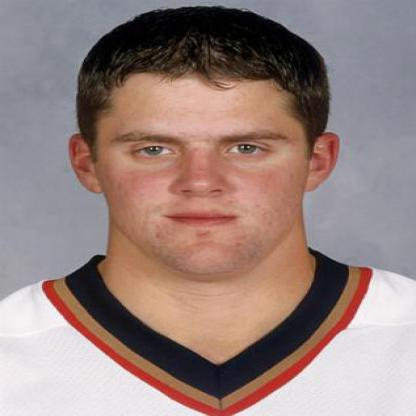face: (95, 21, 313, 277)
